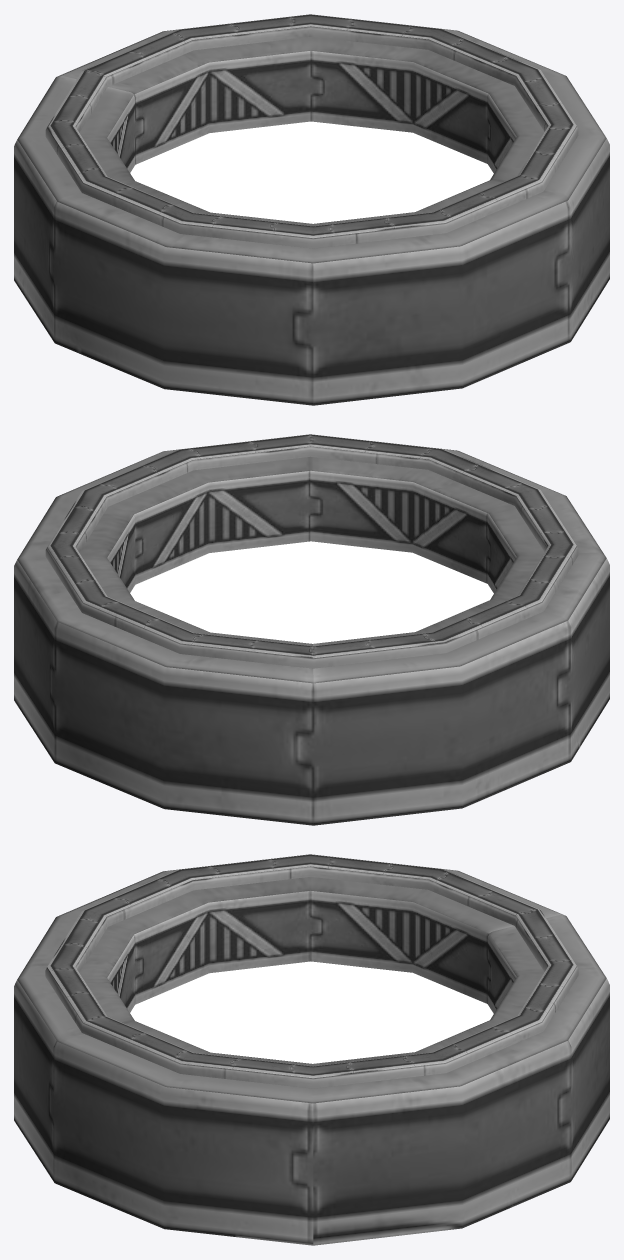
File: ARC1110029.fbx
3 renders of one model, top to bottom at view 1: azimuth 30°, elevation 25°; view 2: azimuth 150°, elevation 25°; view 3: azimuth 270°, elevation 25°, orthographic.
Visible parts, largest first — view 1: smARC1110029; view 2: smARC1110029; view 3: smARC1110029.
Boxes of the visible parts, x1=… form: smARC1110029: x1=14, y1=14, x2=609, y2=405; smARC1110029: x1=14, y1=434, x2=609, y2=825; smARC1110029: x1=14, y1=854, x2=609, y2=1245.
Size of the model in its own units: 150 by 42.97 by 150.
1 material, 1 textured.
